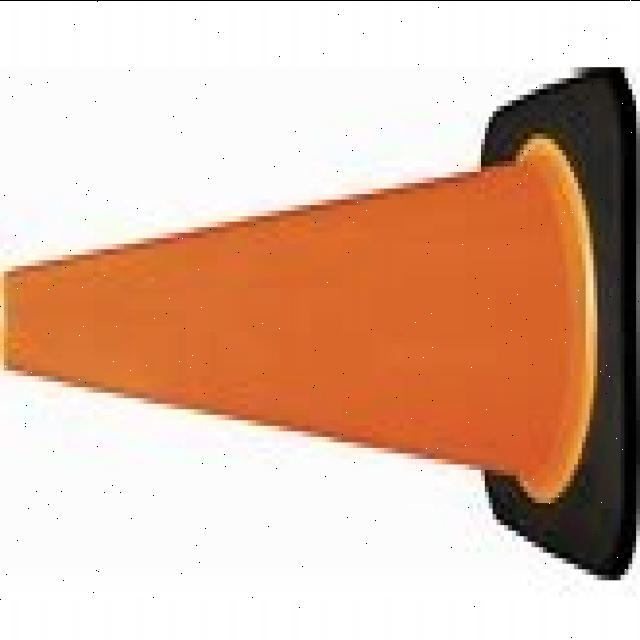traffic cone: (1, 47, 640, 595)
